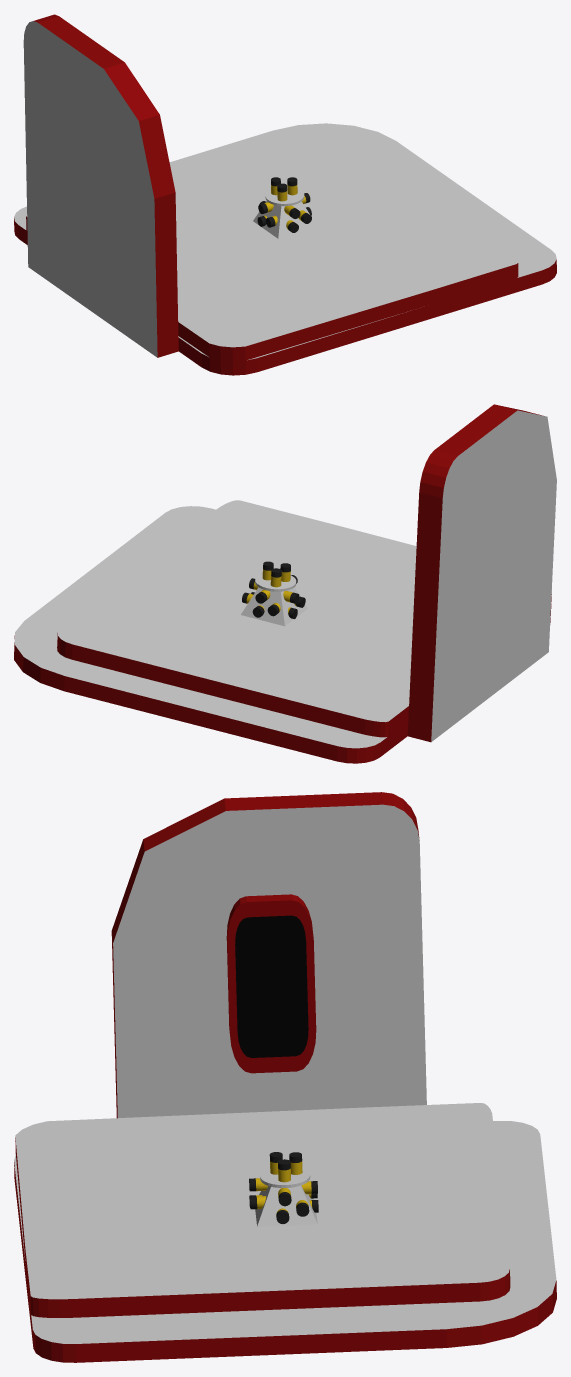
Rendered from Conectar.dae.
The picture shows the model from 3 angles, top to bottom: view 1: azimuth 30°, elevation 25°; view 2: azimuth 150°, elevation 25°; view 3: azimuth 270°, elevation 25°; orthographic projection. The views are drawn at different scales.
Visible parts, largest first — view 1: Cylinder-004; view 2: Cylinder-004; view 3: Cylinder-004.
Boxes of the visible parts, x1=… form: Cylinder-004: x1=14, y1=14, x2=556, y2=375; Cylinder-004: x1=14, y1=404, x2=556, y2=763; Cylinder-004: x1=14, y1=792, x2=556, y2=1362.
Bounding box in the file's own units: 9.13 × 5.85 × 8.44.
